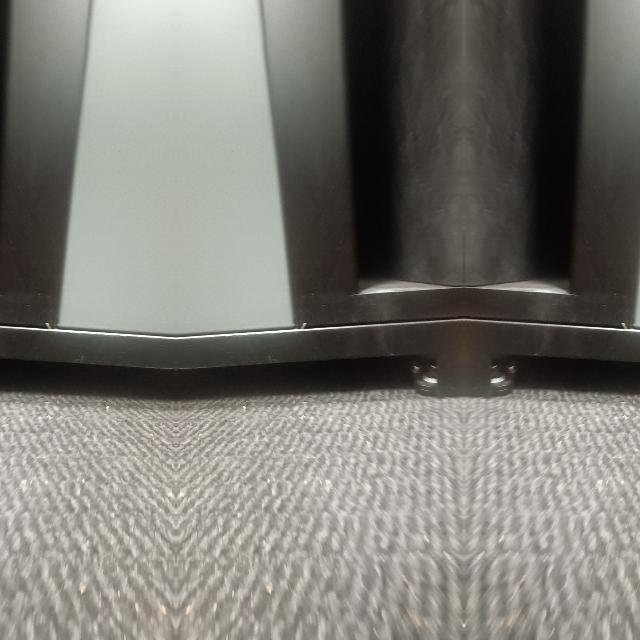obstacle: (176, 17, 464, 401), (463, 17, 640, 401), (0, 17, 174, 401)
